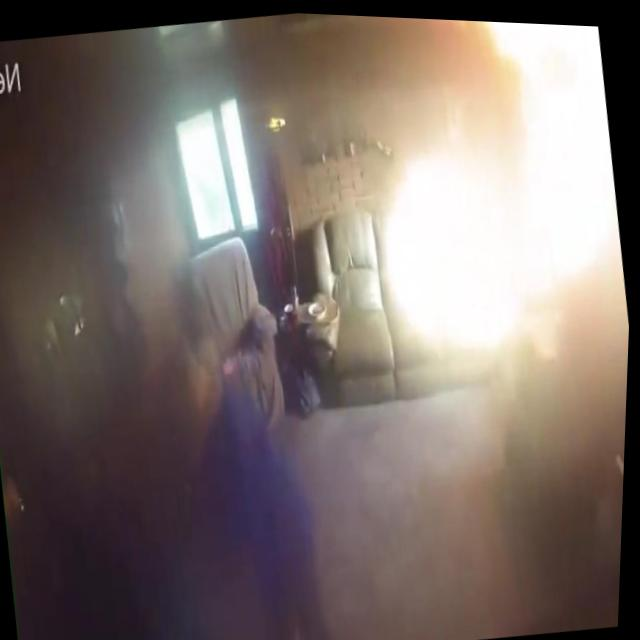fire: (463, 16, 633, 302)
